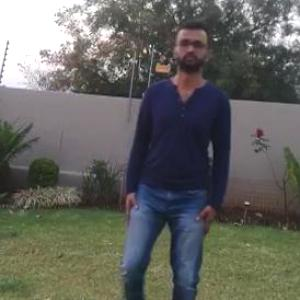follow: (128, 27, 226, 299)
